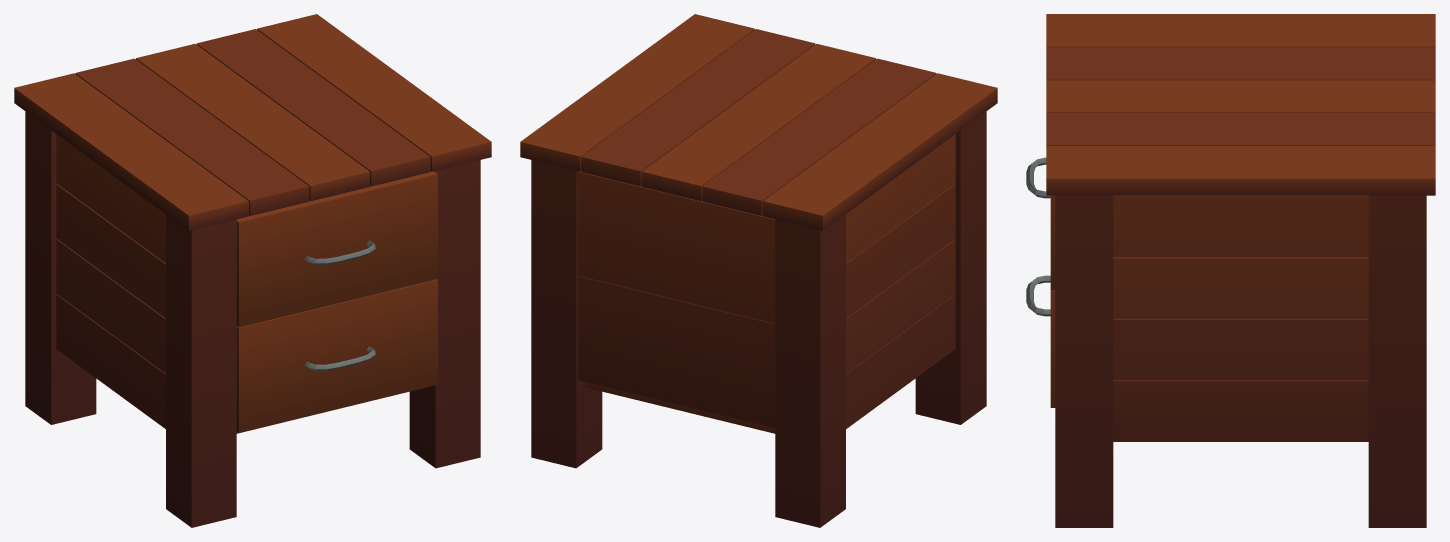
File: Prop_Nightstand_01.obj
3 renders of one model, left to right at view 1: azimuth 30°, elevation 25°; view 2: azimuth 150°, elevation 25°; view 3: azimuth 270°, elevation 25°, orthographic. The views are drawn at different scales.
Parts seen in each view (by area): view 1: Prop_Nightstand_01, Prop_Nightstand_Top_01, Prop_Nightstand_Bottom_01; view 2: Prop_Nightstand_01; view 3: Prop_Nightstand_01, Prop_Nightstand_Bottom_01, Prop_Nightstand_Top_01.
Part boxes in pixels (x1,y1,x2,y2): Prop_Nightstand_01: [14, 14, 491, 527]; Prop_Nightstand_Top_01: [236, 171, 437, 327]; Prop_Nightstand_Bottom_01: [236, 279, 437, 432]; Prop_Nightstand_01: [520, 14, 997, 527]; Prop_Nightstand_01: [1046, 14, 1435, 527]; Prop_Nightstand_Bottom_01: [1026, 275, 1055, 407]; Prop_Nightstand_Top_01: [1026, 157, 1055, 290].
Size of the model in its own units: 0.4 by 0.4 by 0.4206.
1 material, 1 textured.
